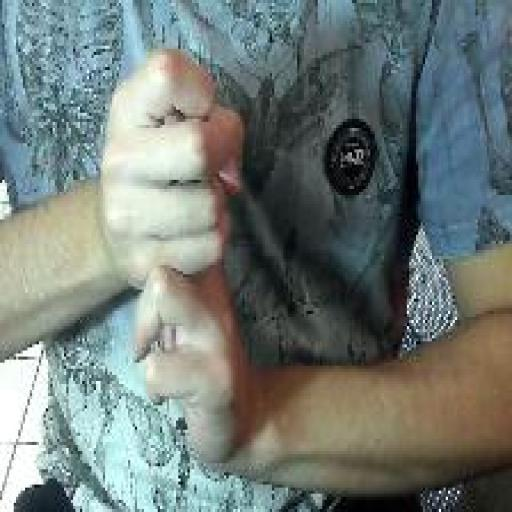Ne -rat-: (97, 44, 253, 471)
